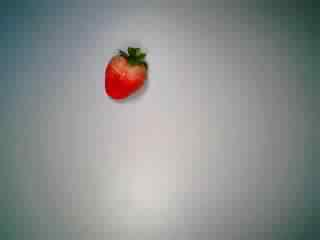strawberry: (94, 45, 160, 107)
